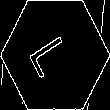L_NE: (29, 29, 81, 81)
